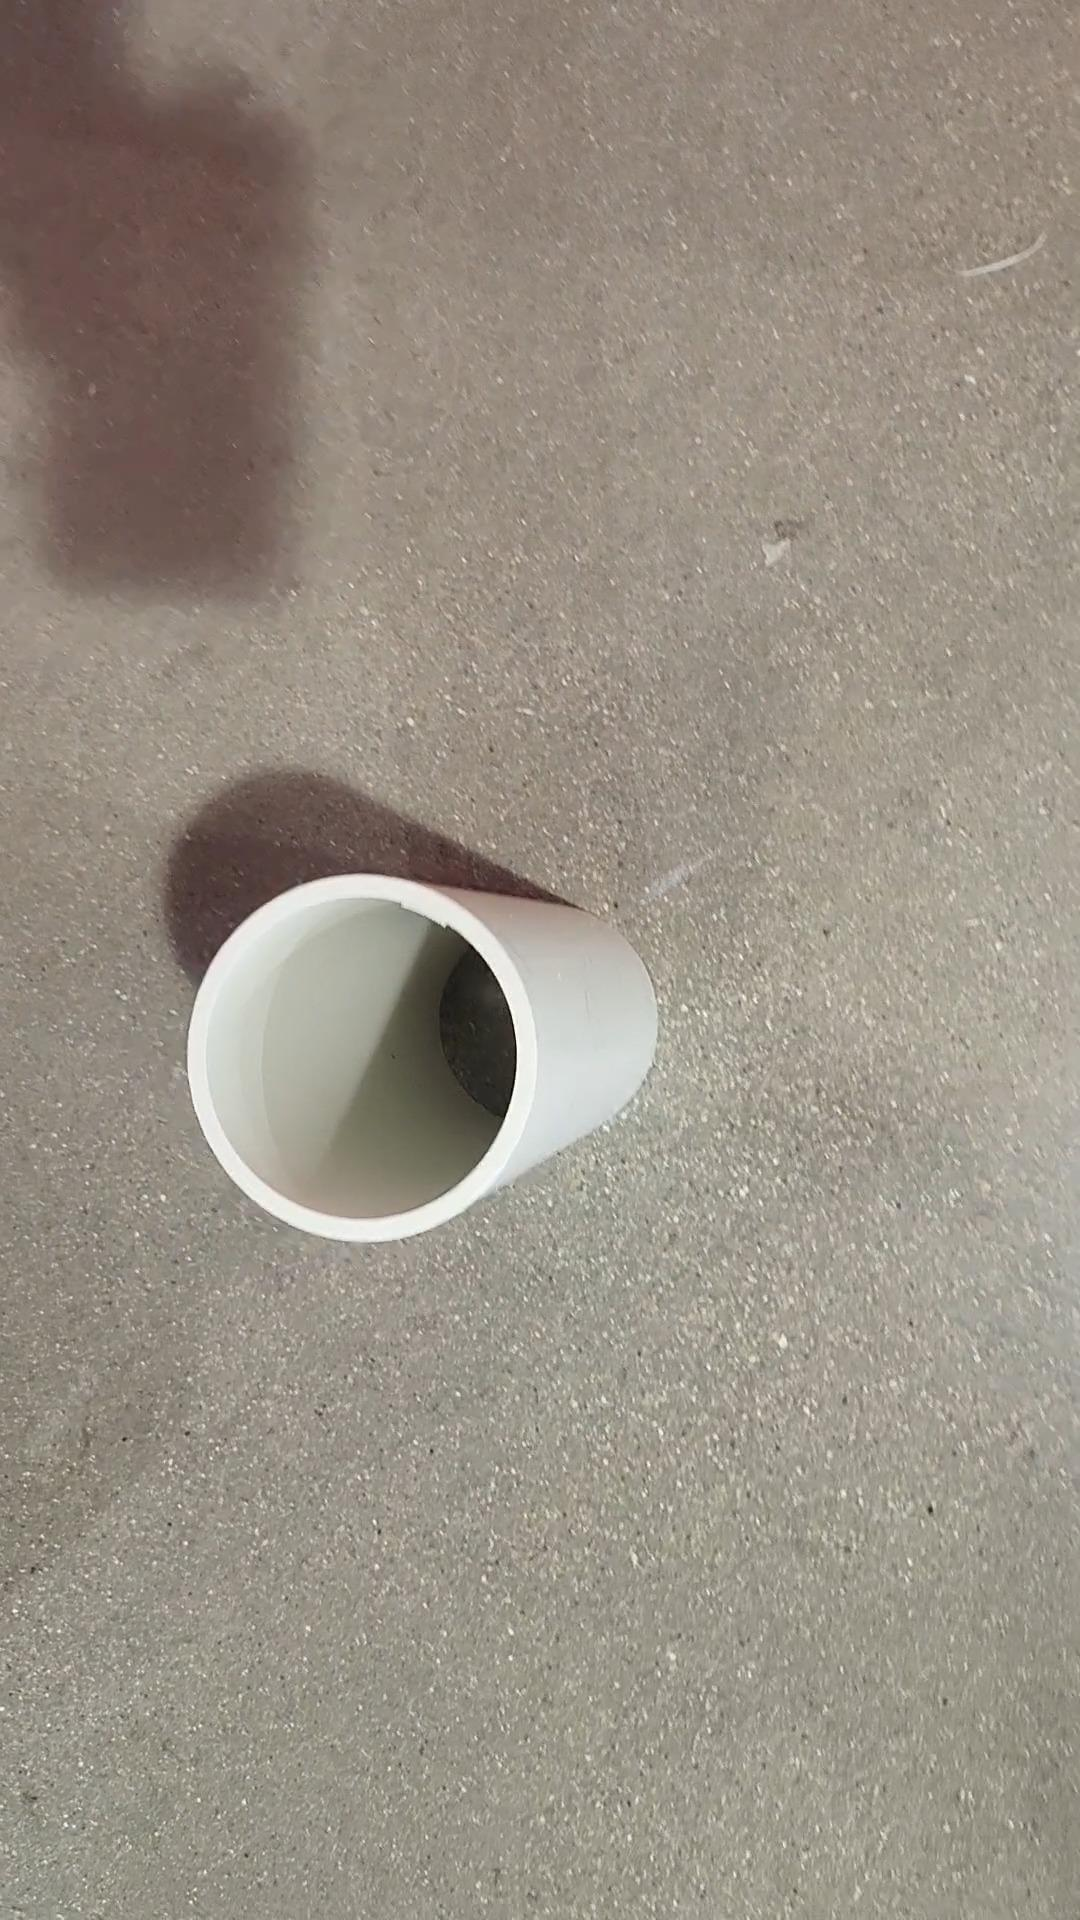coral: (183, 857, 663, 1250)
